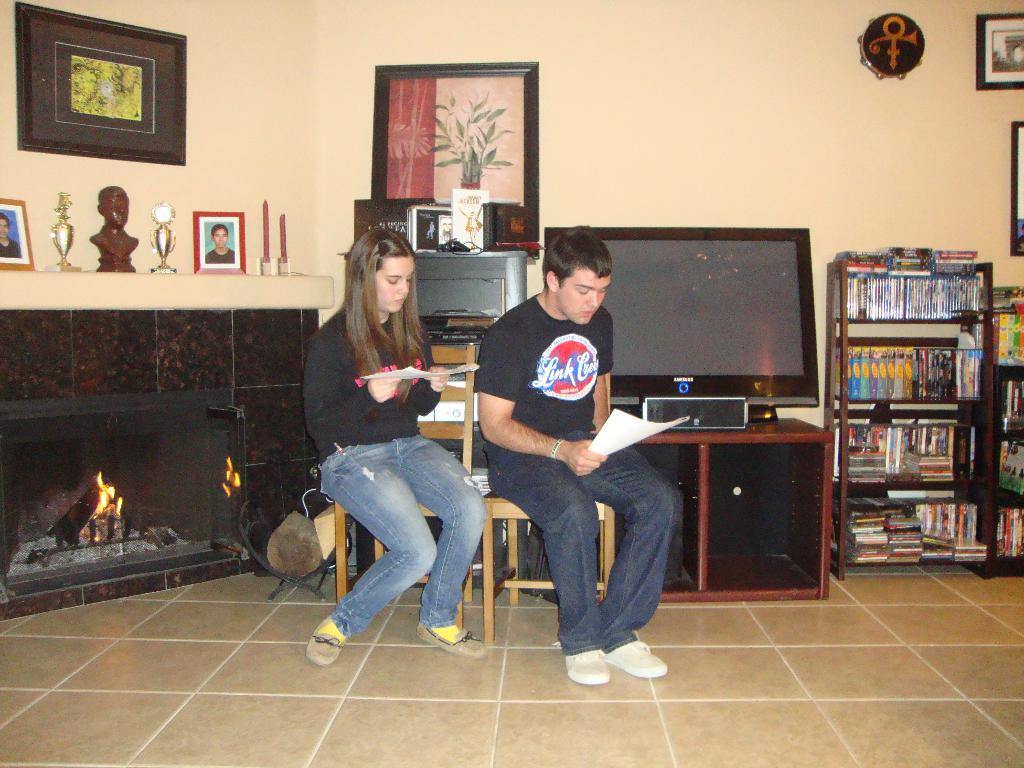Computer-monitor: (543, 224, 820, 425)
